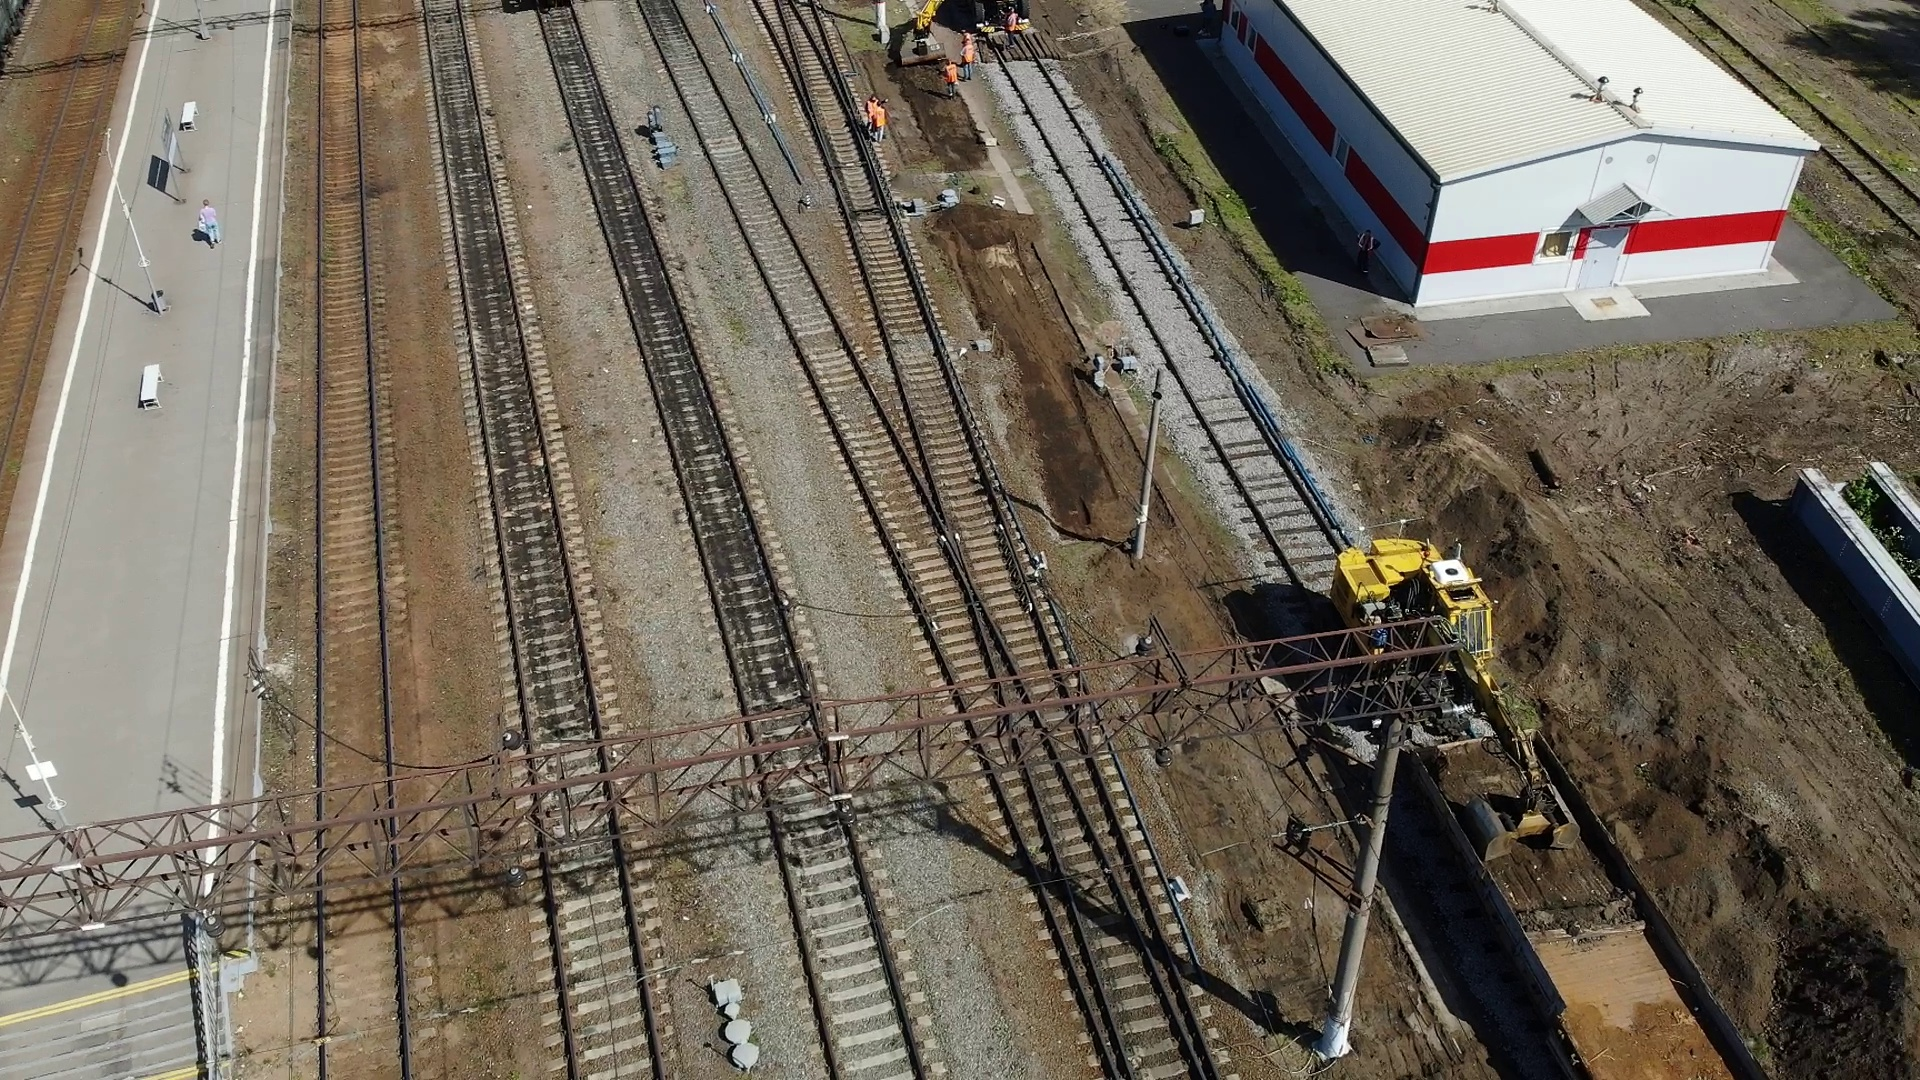kjtv: (1331, 527, 1499, 699)
